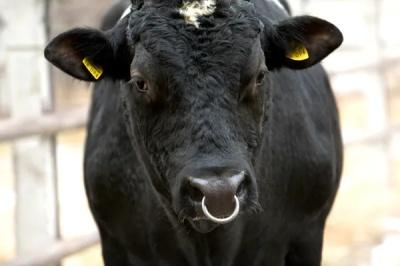cow: (44, 0, 345, 266)
